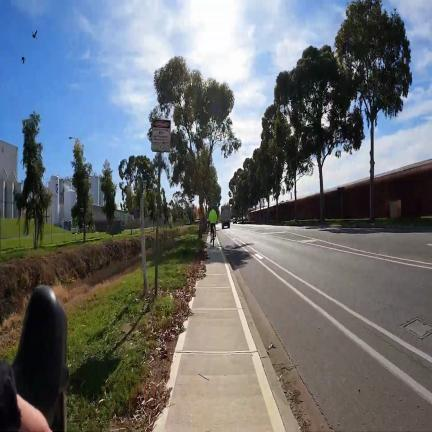Bike_Lane: (223, 244, 432, 432)
